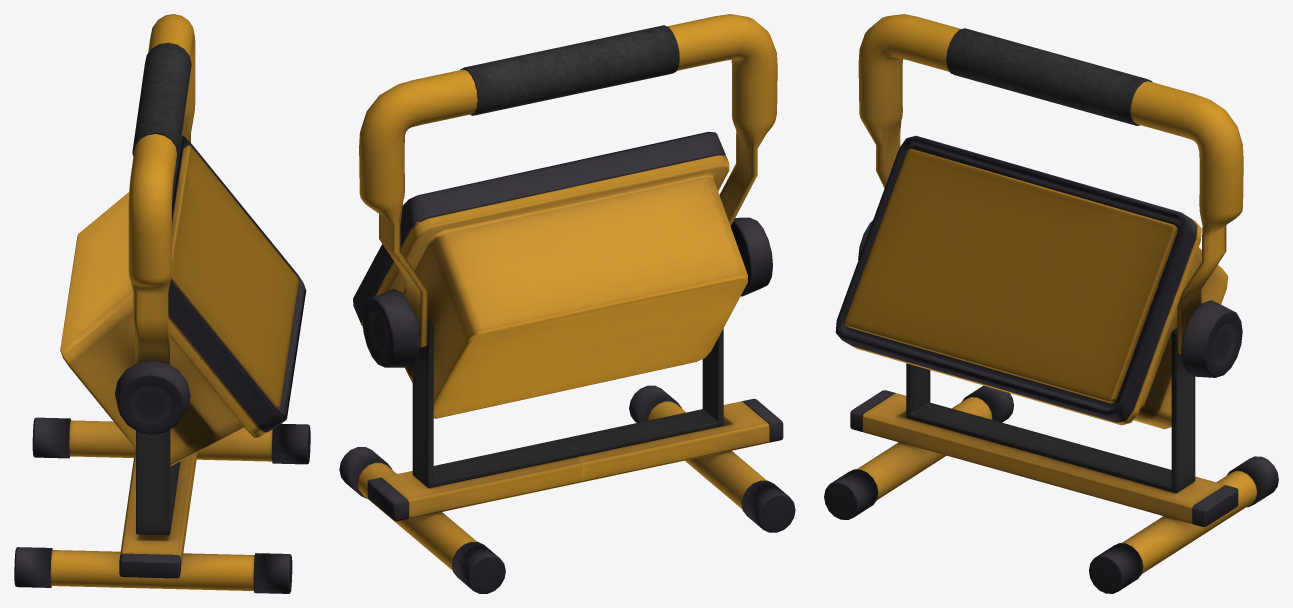
File: portableLight_B.fbx
3 views of the same model, side by side, from view 1: azimuth 30°, elevation 25°; view 2: azimuth 150°, elevation 25°; view 3: azimuth 270°, elevation 25° (orthographic). The views are drawn at different scales.
Visible parts, largest first — view 1: portableLight_B; view 2: portableLight_B; view 3: portableLight_B.
Boxes of the visible parts, bbox=[...] form: portableLight_B: bbox=[14, 14, 310, 593]; portableLight_B: bbox=[339, 14, 795, 593]; portableLight_B: bbox=[824, 14, 1278, 593].
Size of the model in its own units: 22.12 by 23.18 by 25.38.
